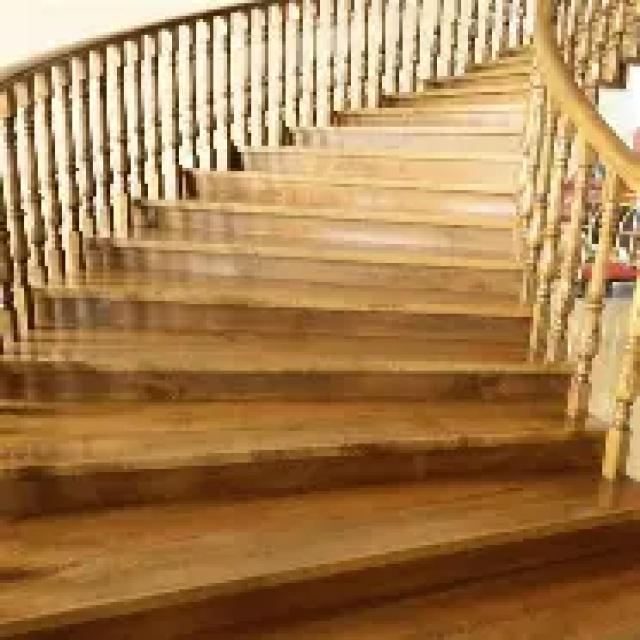Stairs: (0, 152, 639, 523)
